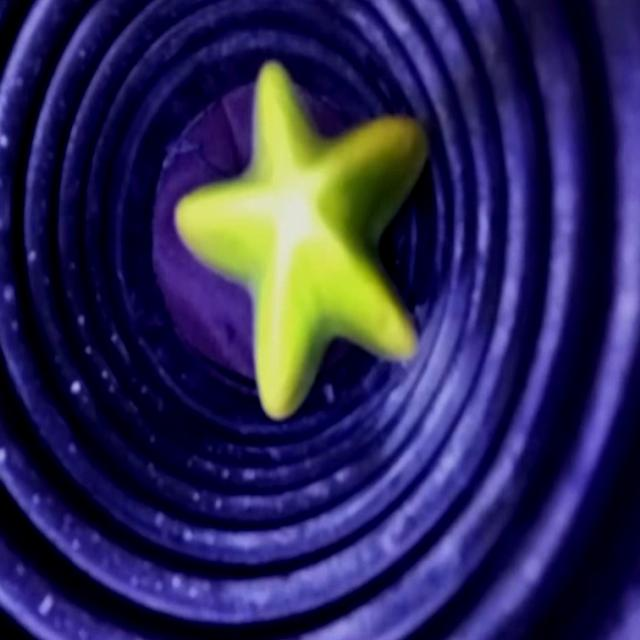obstacles: (172, 61, 428, 418)
